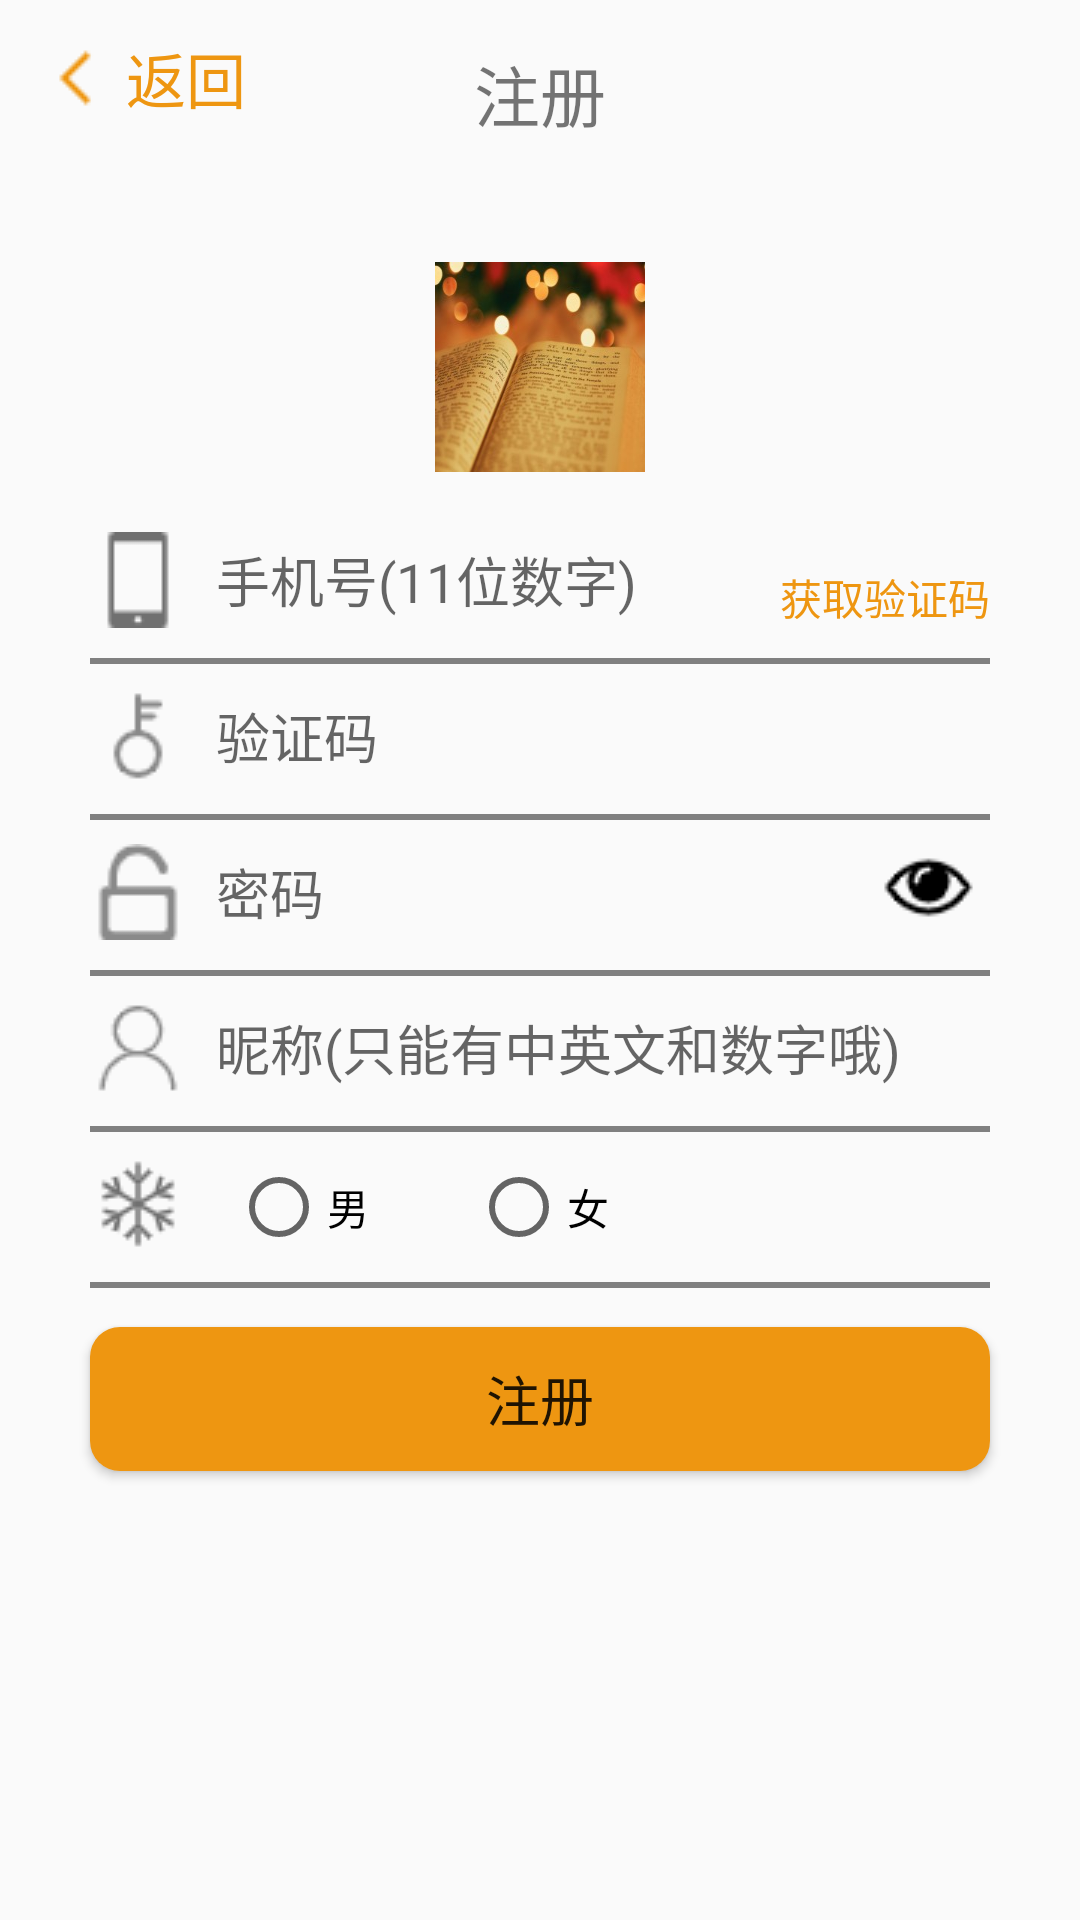

Locate icon controls on the screen. Image size 1080×1920, boxes as (x1, y1, x2, y2).
book: (435, 262, 645, 472)
eye: (884, 858, 973, 917)
